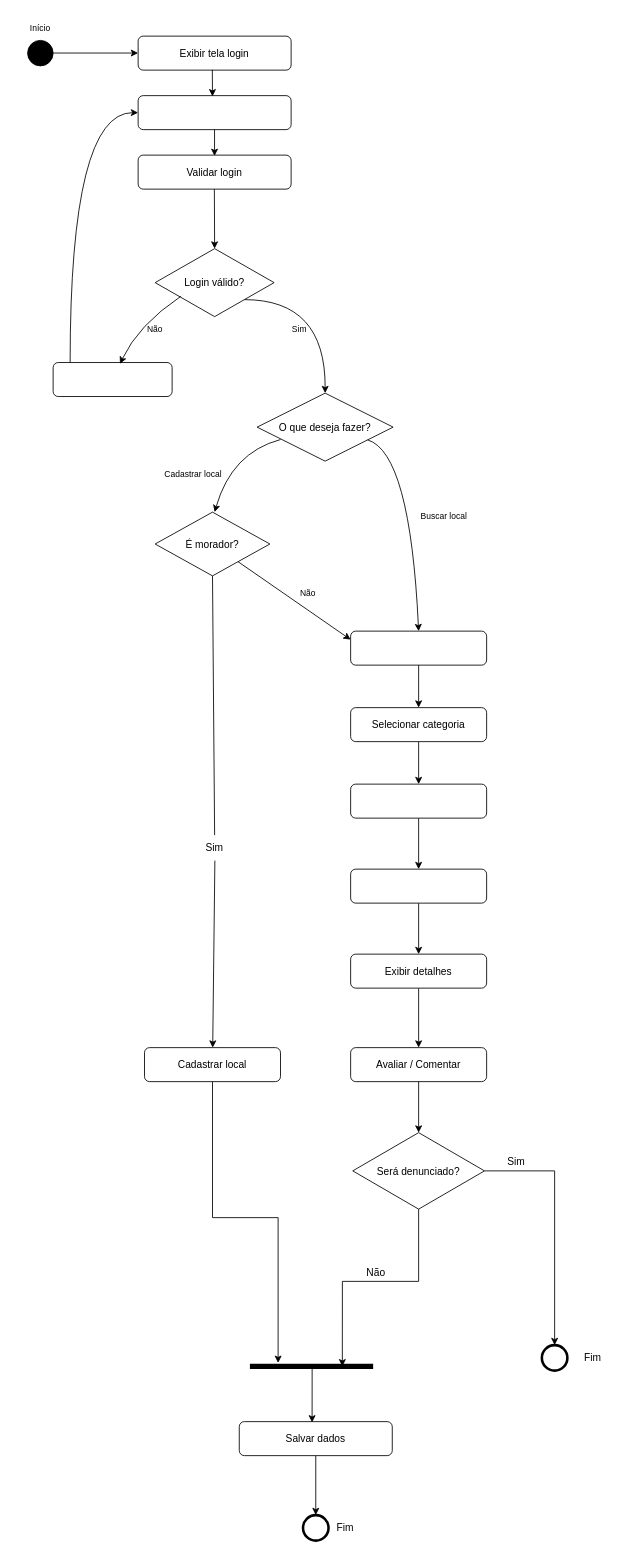
This 632x1556 diagram has some shape labels left out. The centre of each missing label's shape, as x and y in pixels:
Buscar locais: (418,647)
Exibir erro: (112,379)
Exibir locais: (418,800)
Inserir dados: (214,112)
Selecionar local: (418,885)
